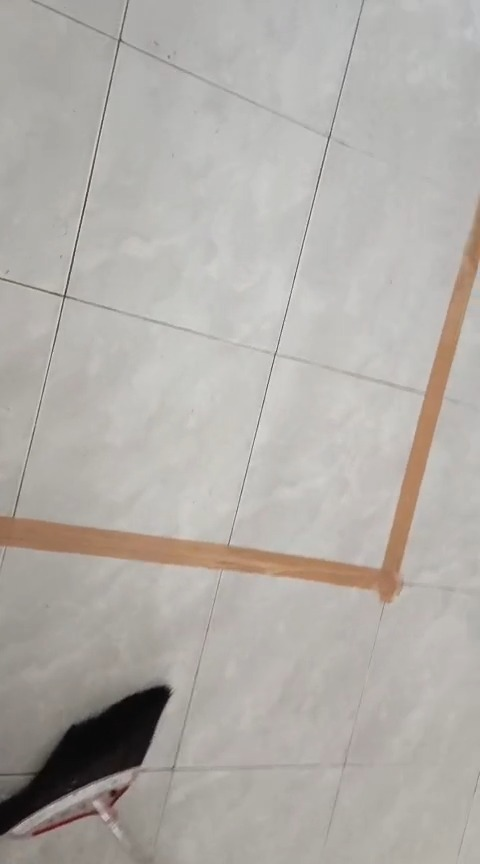floor marking: (0, 200, 479, 601)
